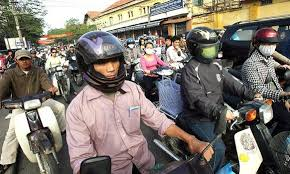helmet: (77, 30, 127, 93), (185, 26, 221, 64), (251, 27, 280, 57)
